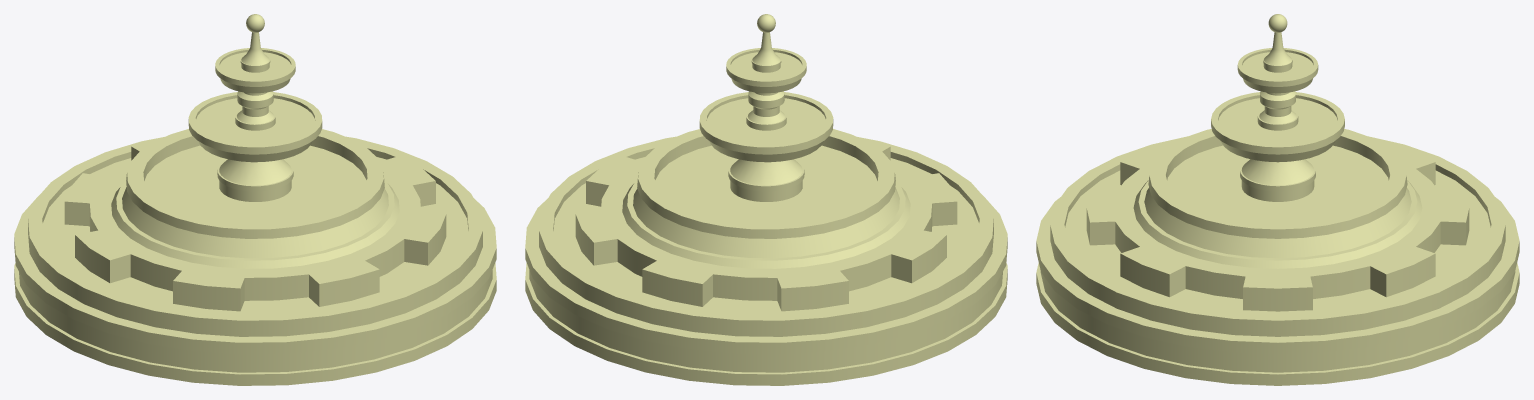
The model's file is fountain_01.fbx.
3 views of the same model, side by side, from view 1: azimuth 30°, elevation 25°; view 2: azimuth 150°, elevation 25°; view 3: azimuth 270°, elevation 25° (orthographic).
Visible parts, largest first — view 1: f1_l; view 2: f1_l; view 3: f1_l.
Boxes of the visible parts, x1,y1,x2,y2 form: f1_l: (14, 14, 496, 385); f1_l: (525, 14, 1007, 385); f1_l: (1036, 14, 1519, 385).
Size of the model in its own units: 533 by 327 by 533.
